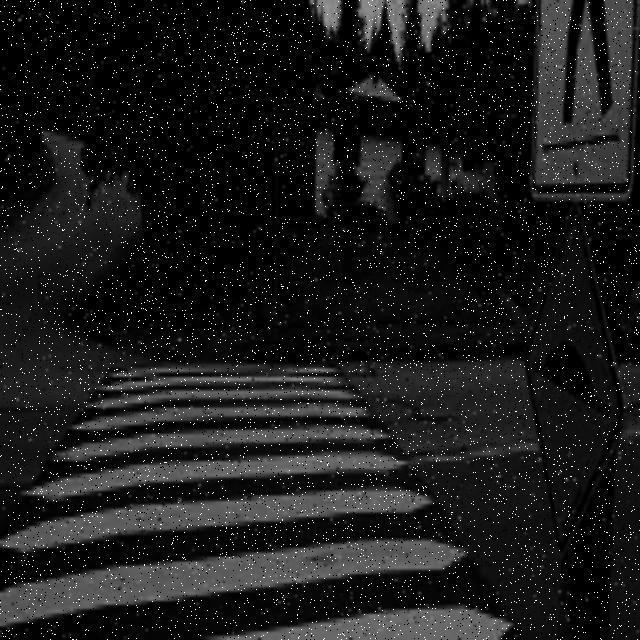Pedestrian crosswalk: (0, 356, 523, 636)
